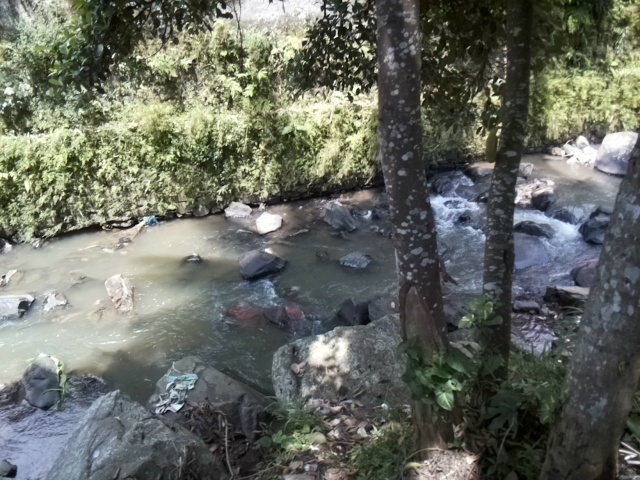Sampah_Plastik: (156, 370, 200, 413), (142, 212, 157, 227)
